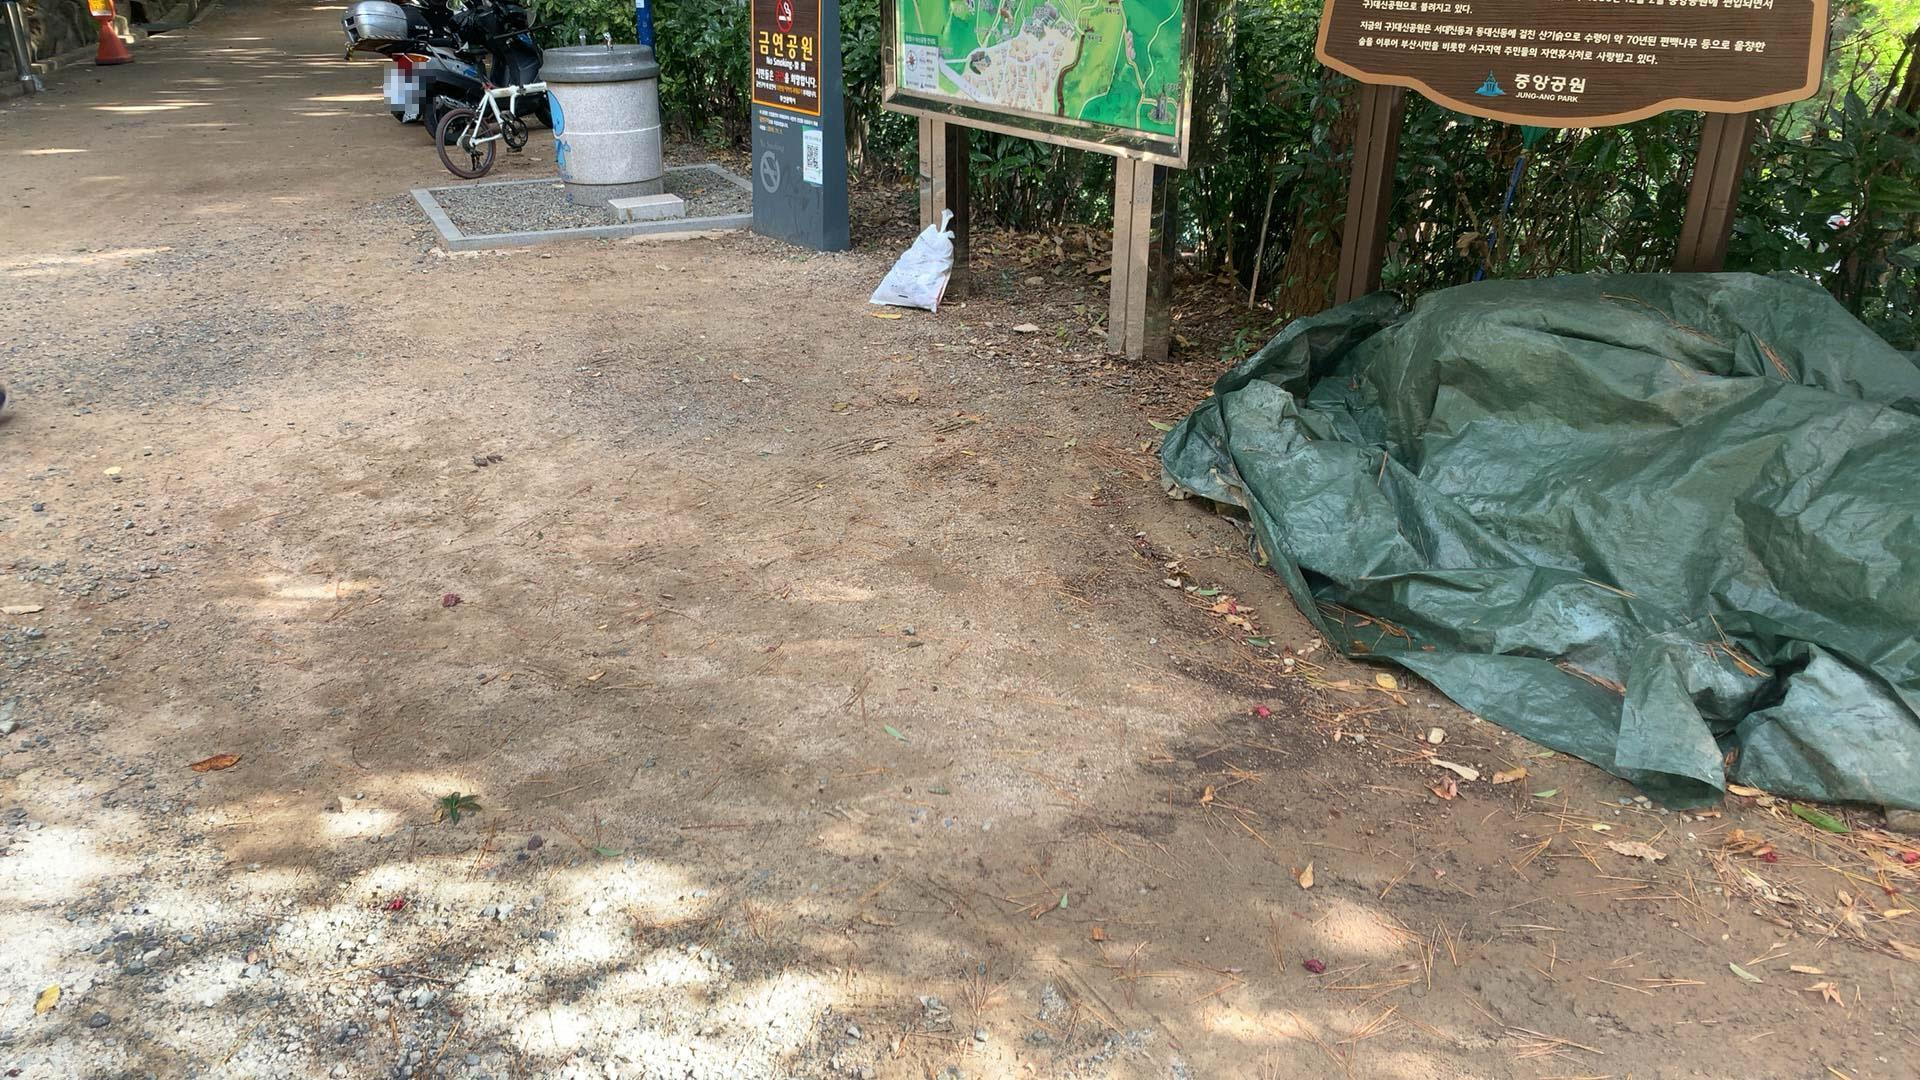white_bag: (858, 204, 975, 320)
